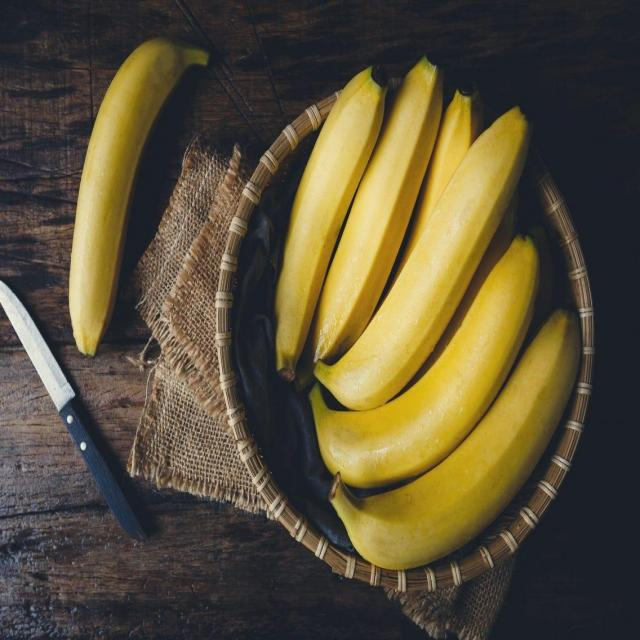banana: (308, 99, 539, 414), (320, 299, 582, 576), (308, 225, 544, 488), (65, 32, 210, 364), (308, 43, 451, 374), (268, 61, 392, 388)
